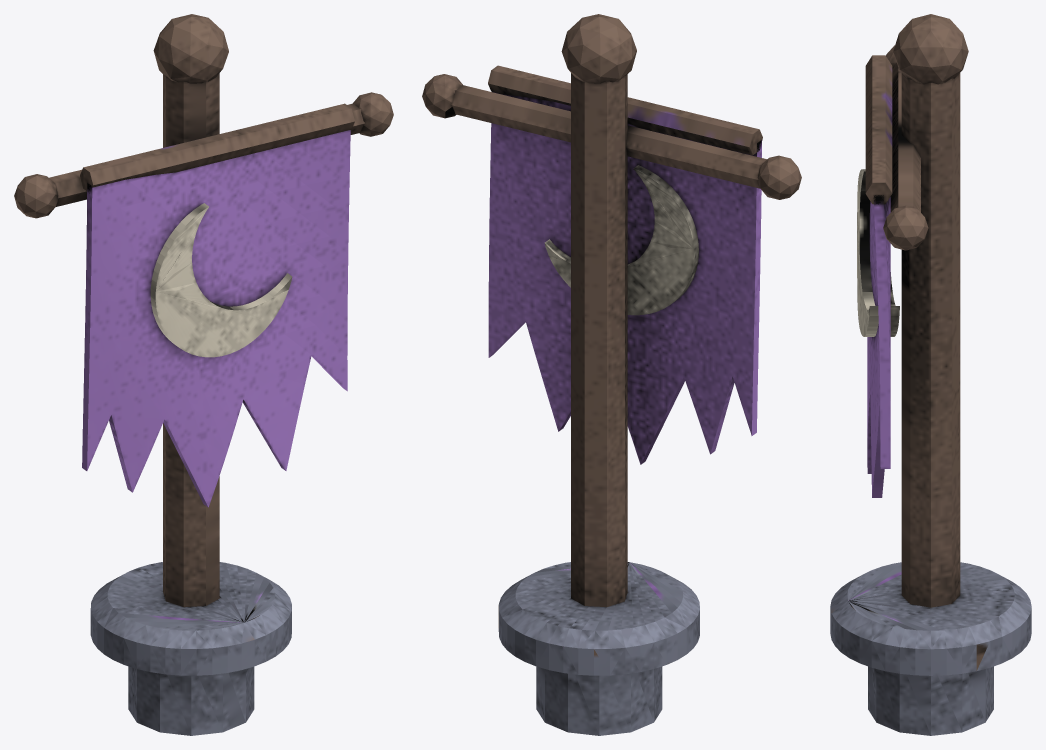
File: Banner_Luna_Purpura.glb
The picture shows the model from 3 angles, left to right: view 1: azimuth 30°, elevation 25°; view 2: azimuth 150°, elevation 25°; view 3: azimuth 270°, elevation 25°; orthographic projection.
Parts seen in each view (by area): view 1: Cloth, BaseDisc, Pole, Symbol_Front, Hem, MountPeg, Finial, CrossbarKnob_1, CrossbarKnob_2, Crossbar; view 2: Cloth, Pole, BaseDisc, Crossbar, MountPeg, Symbol_Back, Hem, Finial, CrossbarKnob_1, CrossbarKnob_2; view 3: Pole, BaseDisc, MountPeg, Cloth, Finial, Hem, Crossbar, Symbol_Front, CrossbarKnob_2, Symbol_Back.
Part boxes in pixels (bbox=[...]): Cloth: bbox=[82, 130, 350, 507]; BaseDisc: bbox=[90, 562, 291, 675]; Pole: bbox=[163, 73, 219, 607]; Symbol_Front: bbox=[150, 203, 292, 357]; Hem: bbox=[80, 103, 354, 193]; MountPeg: bbox=[128, 666, 254, 735]; Finial: bbox=[153, 14, 228, 83]; CrossbarKnob_1: bbox=[14, 174, 58, 218]; CrossbarKnob_2: bbox=[353, 92, 393, 136]; Crossbar: bbox=[49, 103, 365, 206]; Cloth: bbox=[488, 91, 761, 464]; Pole: bbox=[571, 73, 627, 607]; BaseDisc: bbox=[498, 562, 699, 675]; Crossbar: bbox=[451, 85, 766, 188]; MountPeg: bbox=[536, 666, 662, 735]; Symbol_Back: bbox=[544, 165, 698, 315]; Hem: bbox=[488, 65, 762, 155]; Finial: bbox=[561, 14, 636, 83]; CrossbarKnob_1: bbox=[757, 155, 801, 199]; CrossbarKnob_2: bbox=[422, 74, 462, 118]; Pole: bbox=[901, 73, 960, 607]; BaseDisc: bbox=[830, 562, 1031, 675]; MountPeg: bbox=[868, 666, 993, 735]; Cloth: bbox=[867, 195, 890, 497]; Finial: bbox=[893, 14, 968, 84]; Hem: bbox=[865, 55, 892, 204]; Crossbar: bbox=[890, 63, 920, 212]; Symbol_Front: bbox=[857, 169, 878, 336]; CrossbarKnob_2: bbox=[883, 205, 928, 250]; Symbol_Back: bbox=[890, 272, 899, 336].
Bounding box in the file's own units: 0.514 × 0.91 × 0.24.
Materials: 4 (4 with a texture image).
